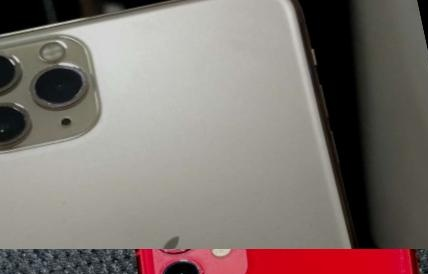scratch: (132, 249, 211, 274), (140, 249, 206, 260)
